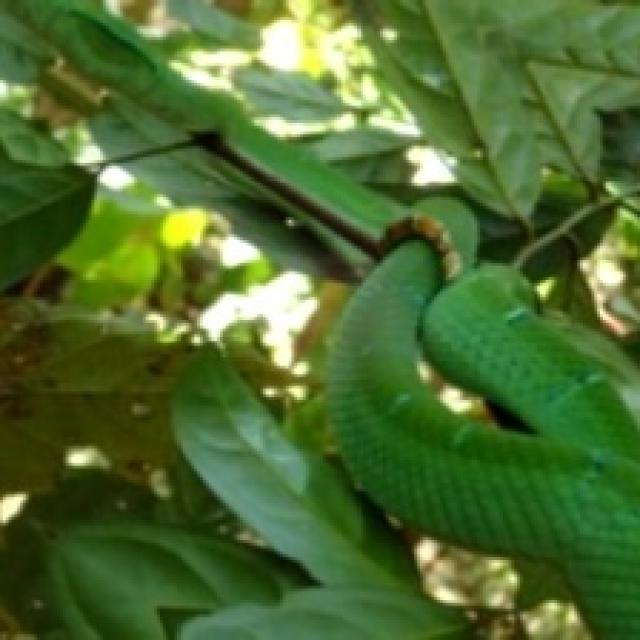north ph temple pitviper: (329, 240, 637, 637)
